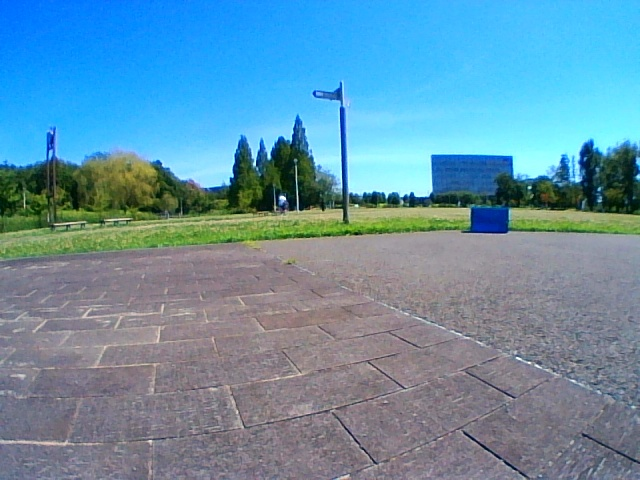blue_box: (471, 207, 508, 233)
